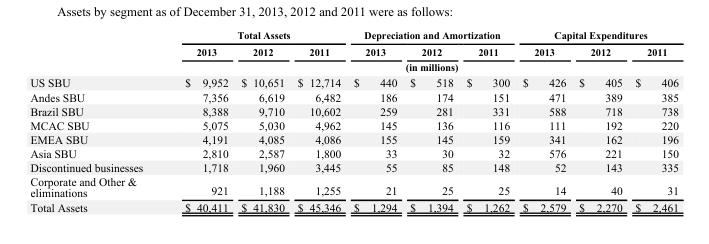table: (29, 29, 677, 213)
table column: (29, 29, 163, 213), (163, 29, 234, 213), (402, 29, 459, 213), (571, 29, 628, 213), (234, 29, 290, 213), (290, 29, 346, 213), (346, 29, 402, 213), (459, 29, 515, 213), (515, 29, 571, 213), (628, 29, 677, 213)
table column header: (29, 29, 677, 74)
table row: (29, 174, 677, 199), (29, 42, 677, 58), (29, 58, 677, 74), (29, 74, 677, 89), (29, 159, 677, 174), (29, 89, 677, 103), (29, 103, 677, 117), (29, 117, 677, 131), (29, 131, 677, 145), (29, 145, 677, 159), (29, 199, 677, 213), (29, 29, 677, 42)
table spanning cell: (163, 58, 677, 74), (163, 29, 346, 42), (346, 29, 515, 42), (515, 29, 677, 42)
